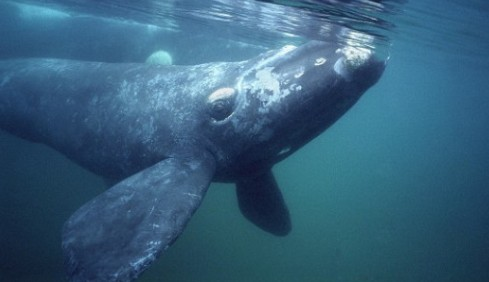fish: (2, 22, 390, 274)
